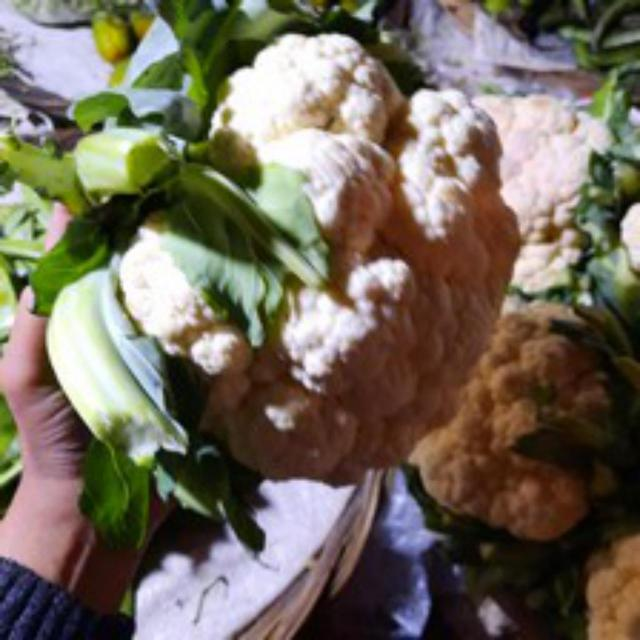cauliflower: (94, 28, 523, 483)
